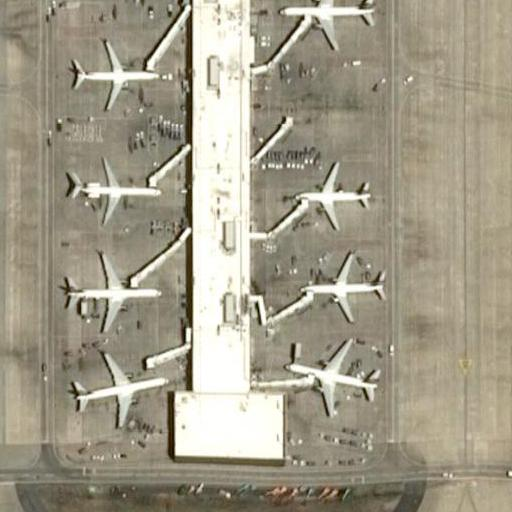Aircraft: (57, 245, 161, 331), (66, 32, 168, 113), (68, 347, 166, 427), (283, 337, 381, 416), (57, 151, 162, 223), (296, 248, 391, 325), (288, 155, 377, 233), (276, 0, 377, 52)
